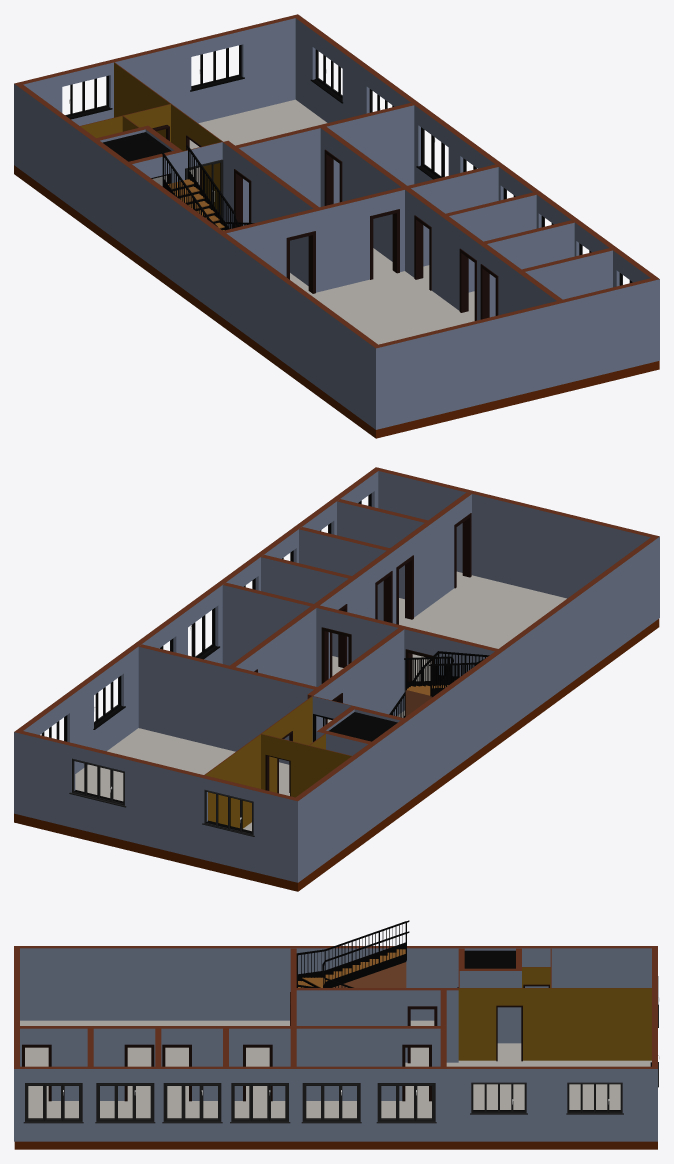
File: Floor2.gltf
The picture shows the model from 3 angles, top to bottom: view 1: azimuth 30°, elevation 25°; view 2: azimuth 150°, elevation 25°; view 3: azimuth 270°, elevation 25°; orthographic projection. The views are drawn at different scales.
Visible parts, largest first — view 1: Wall, Slab, Wall.001, Wall.007, Wall.002, Wall.006, Wall.008, Wall.009, Wall.004, Wall.005, Wall.003, Stair (+11 smaller); view 2: Wall, Slab, Wall.007, Wall.001, Wall.002, Wall.006, Wall.009, Wall.008, Wall.004, Wall.003, Wall.005, Stair (+8 smaller); view 3: Wall, Slab, Wall.009, Wall.002, Wall.008, Wall.006, Stair, Wall.010, Slab.001, Wall.001, Wall.007, Wall.012 (+9 smaller).
Boxes of the visible parts, left/top/right/bottom form: Wall: left=14, top=14, right=659, bottom=429; Slab: left=14, top=99, right=659, bottom=438; Wall.001: left=223, top=164, right=498, bottom=292; Wall.007: left=235, top=103, right=414, bottom=225; Wall.002: left=405, top=188, right=562, bottom=320; Wall.006: left=222, top=140, right=319, bottom=285; Wall.008: left=320, top=126, right=406, bottom=261; Wall.009: left=114, top=62, right=223, bottom=214; Wall.004: left=484, top=220, right=574, bottom=317; Wall.005: left=446, top=192, right=536, bottom=292; Wall.003: left=522, top=248, right=612, bottom=299; Stair: left=161, top=145, right=254, bottom=230; Wall: left=14, top=467, right=659, bottom=882; Slab: left=14, top=571, right=659, bottom=891; Wall.007: left=138, top=644, right=317, bottom=764; Wall.001: left=222, top=582, right=497, bottom=710; Wall.002: left=314, top=492, right=471, bottom=678; Wall.006: left=307, top=628, right=404, bottom=739; Wall.009: left=204, top=695, right=313, bottom=828; Wall.008: left=230, top=606, right=316, bottom=686; Wall.004: left=299, top=527, right=389, bottom=620; Wall.003: left=337, top=499, right=427, bottom=599; Wall.005: left=261, top=554, right=351, bottom=657; Stair: left=389, top=651, right=489, bottom=717; Wall: left=14, top=946, right=657, bottom=1141; Slab: left=14, top=1020, right=657, bottom=1149; Wall.009: left=458, top=988, right=651, bottom=1060; Wall.002: left=20, top=1026, right=290, bottom=1100; Wall.008: left=296, top=1026, right=440, bottom=1100; Wall.006: left=296, top=988, right=458, bottom=1062; Stair: left=296, top=920, right=409, bottom=987; Wall.010: left=458, top=948, right=521, bottom=1043; Slab.001: left=464, top=950, right=515, bottom=968; Wall.001: left=290, top=948, right=296, bottom=1066; Wall.007: left=440, top=990, right=446, bottom=1066; Wall.012: left=522, top=967, right=550, bottom=987.
Bounding box in the file's own units: 9.89 × 4.07 × 21.81.
